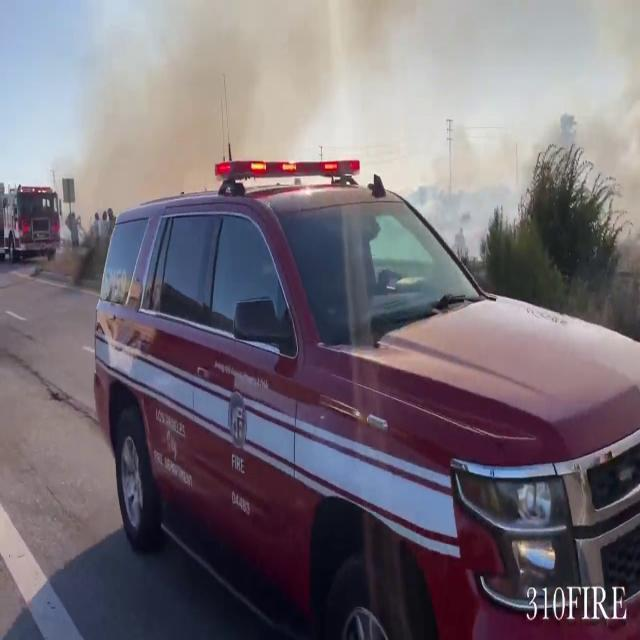Smoke: (72, 0, 538, 172)
